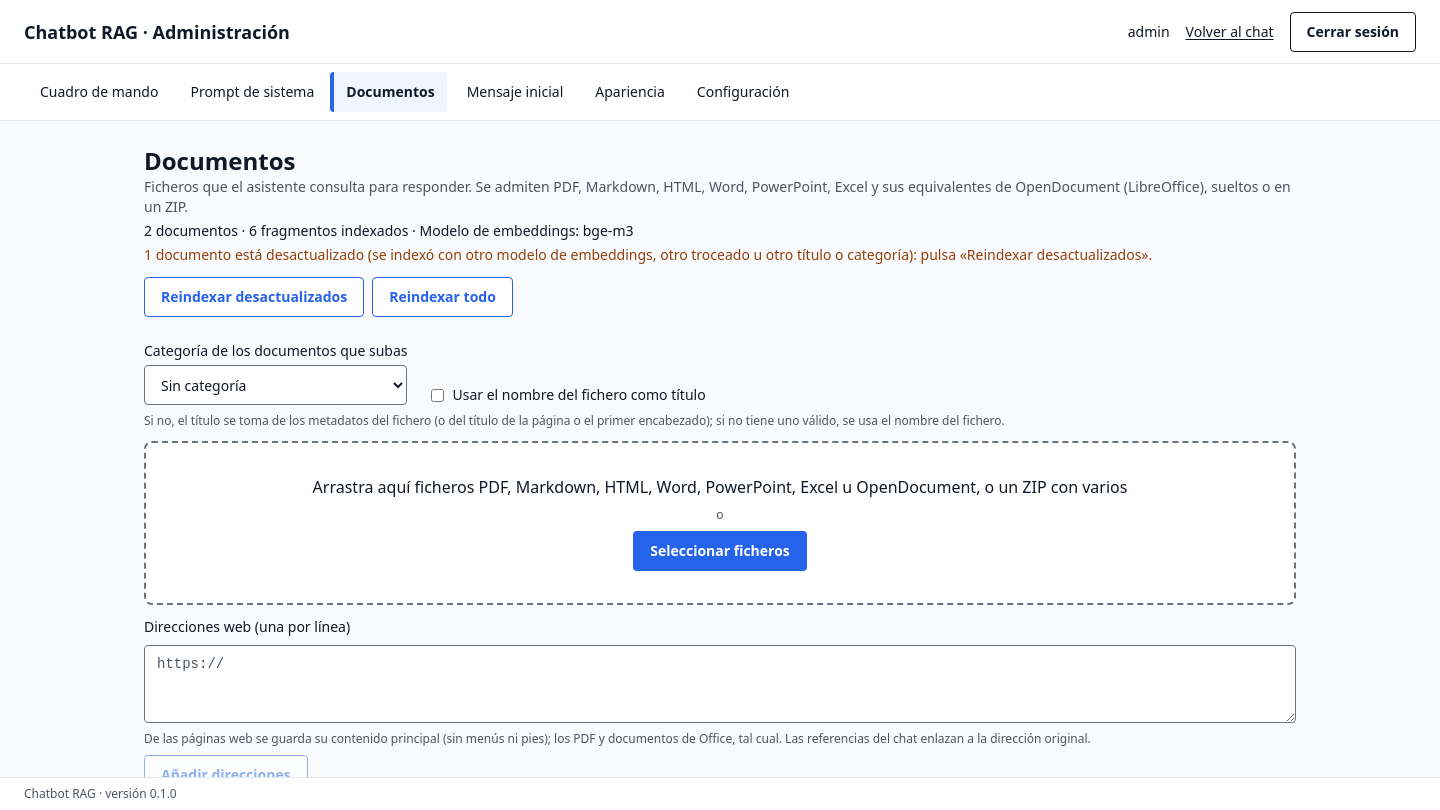
Test: DocumentsPage › avisa de los documentos desactualizados y los reindexa
Check: the text "1 documento está desactualizado" is shown, box [144,245,1152,264]
Click the button "Reindexar desactualizados".
click(254, 297)  # box [144,277,364,317]
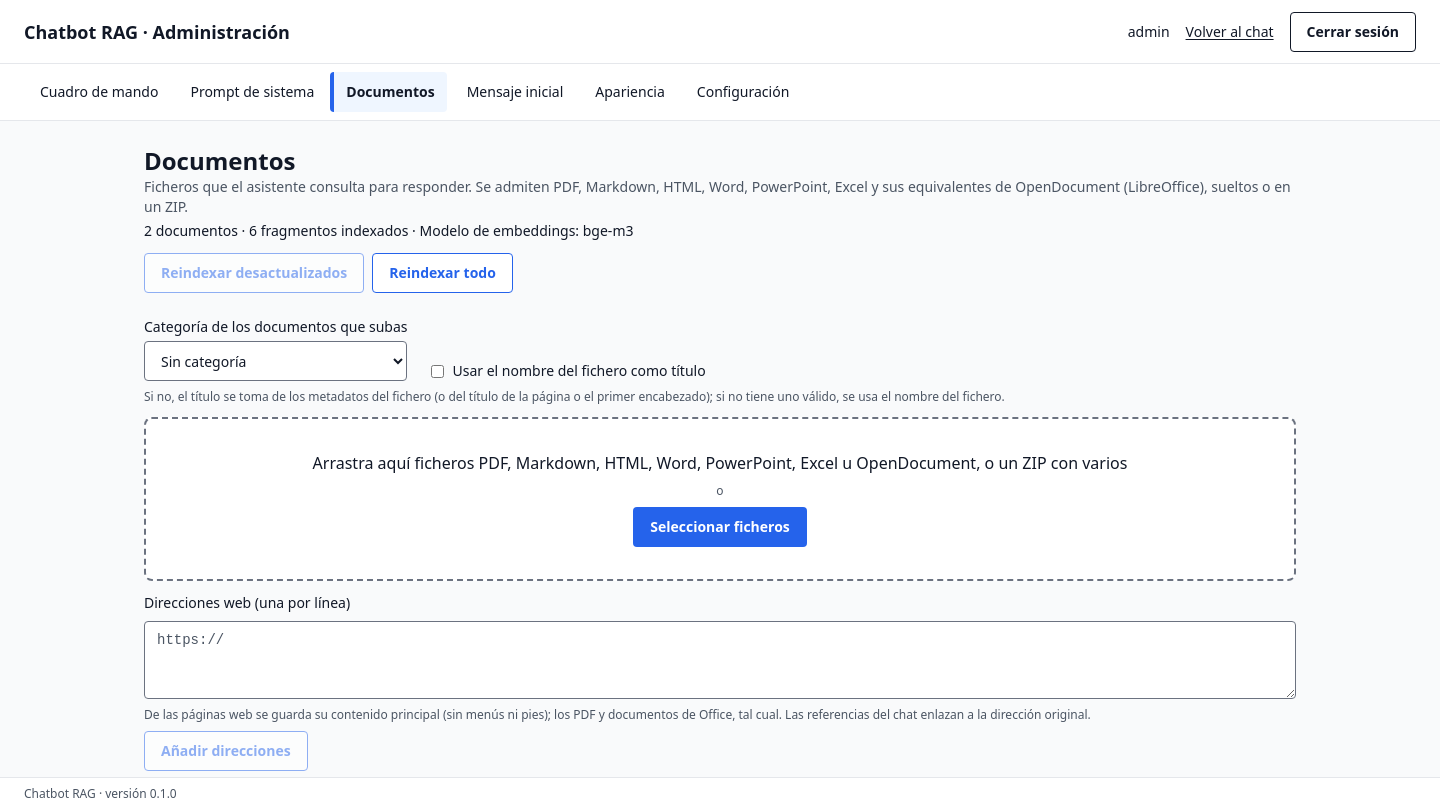
Check: the text "está desactualizado" is gone
Check: the button "Reindexar desactualizados" is disabled, box [144,253,364,293]
